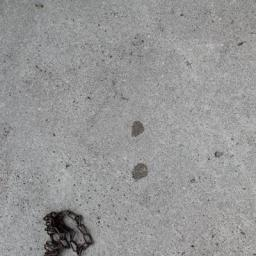FOD: (40, 207, 97, 256)
